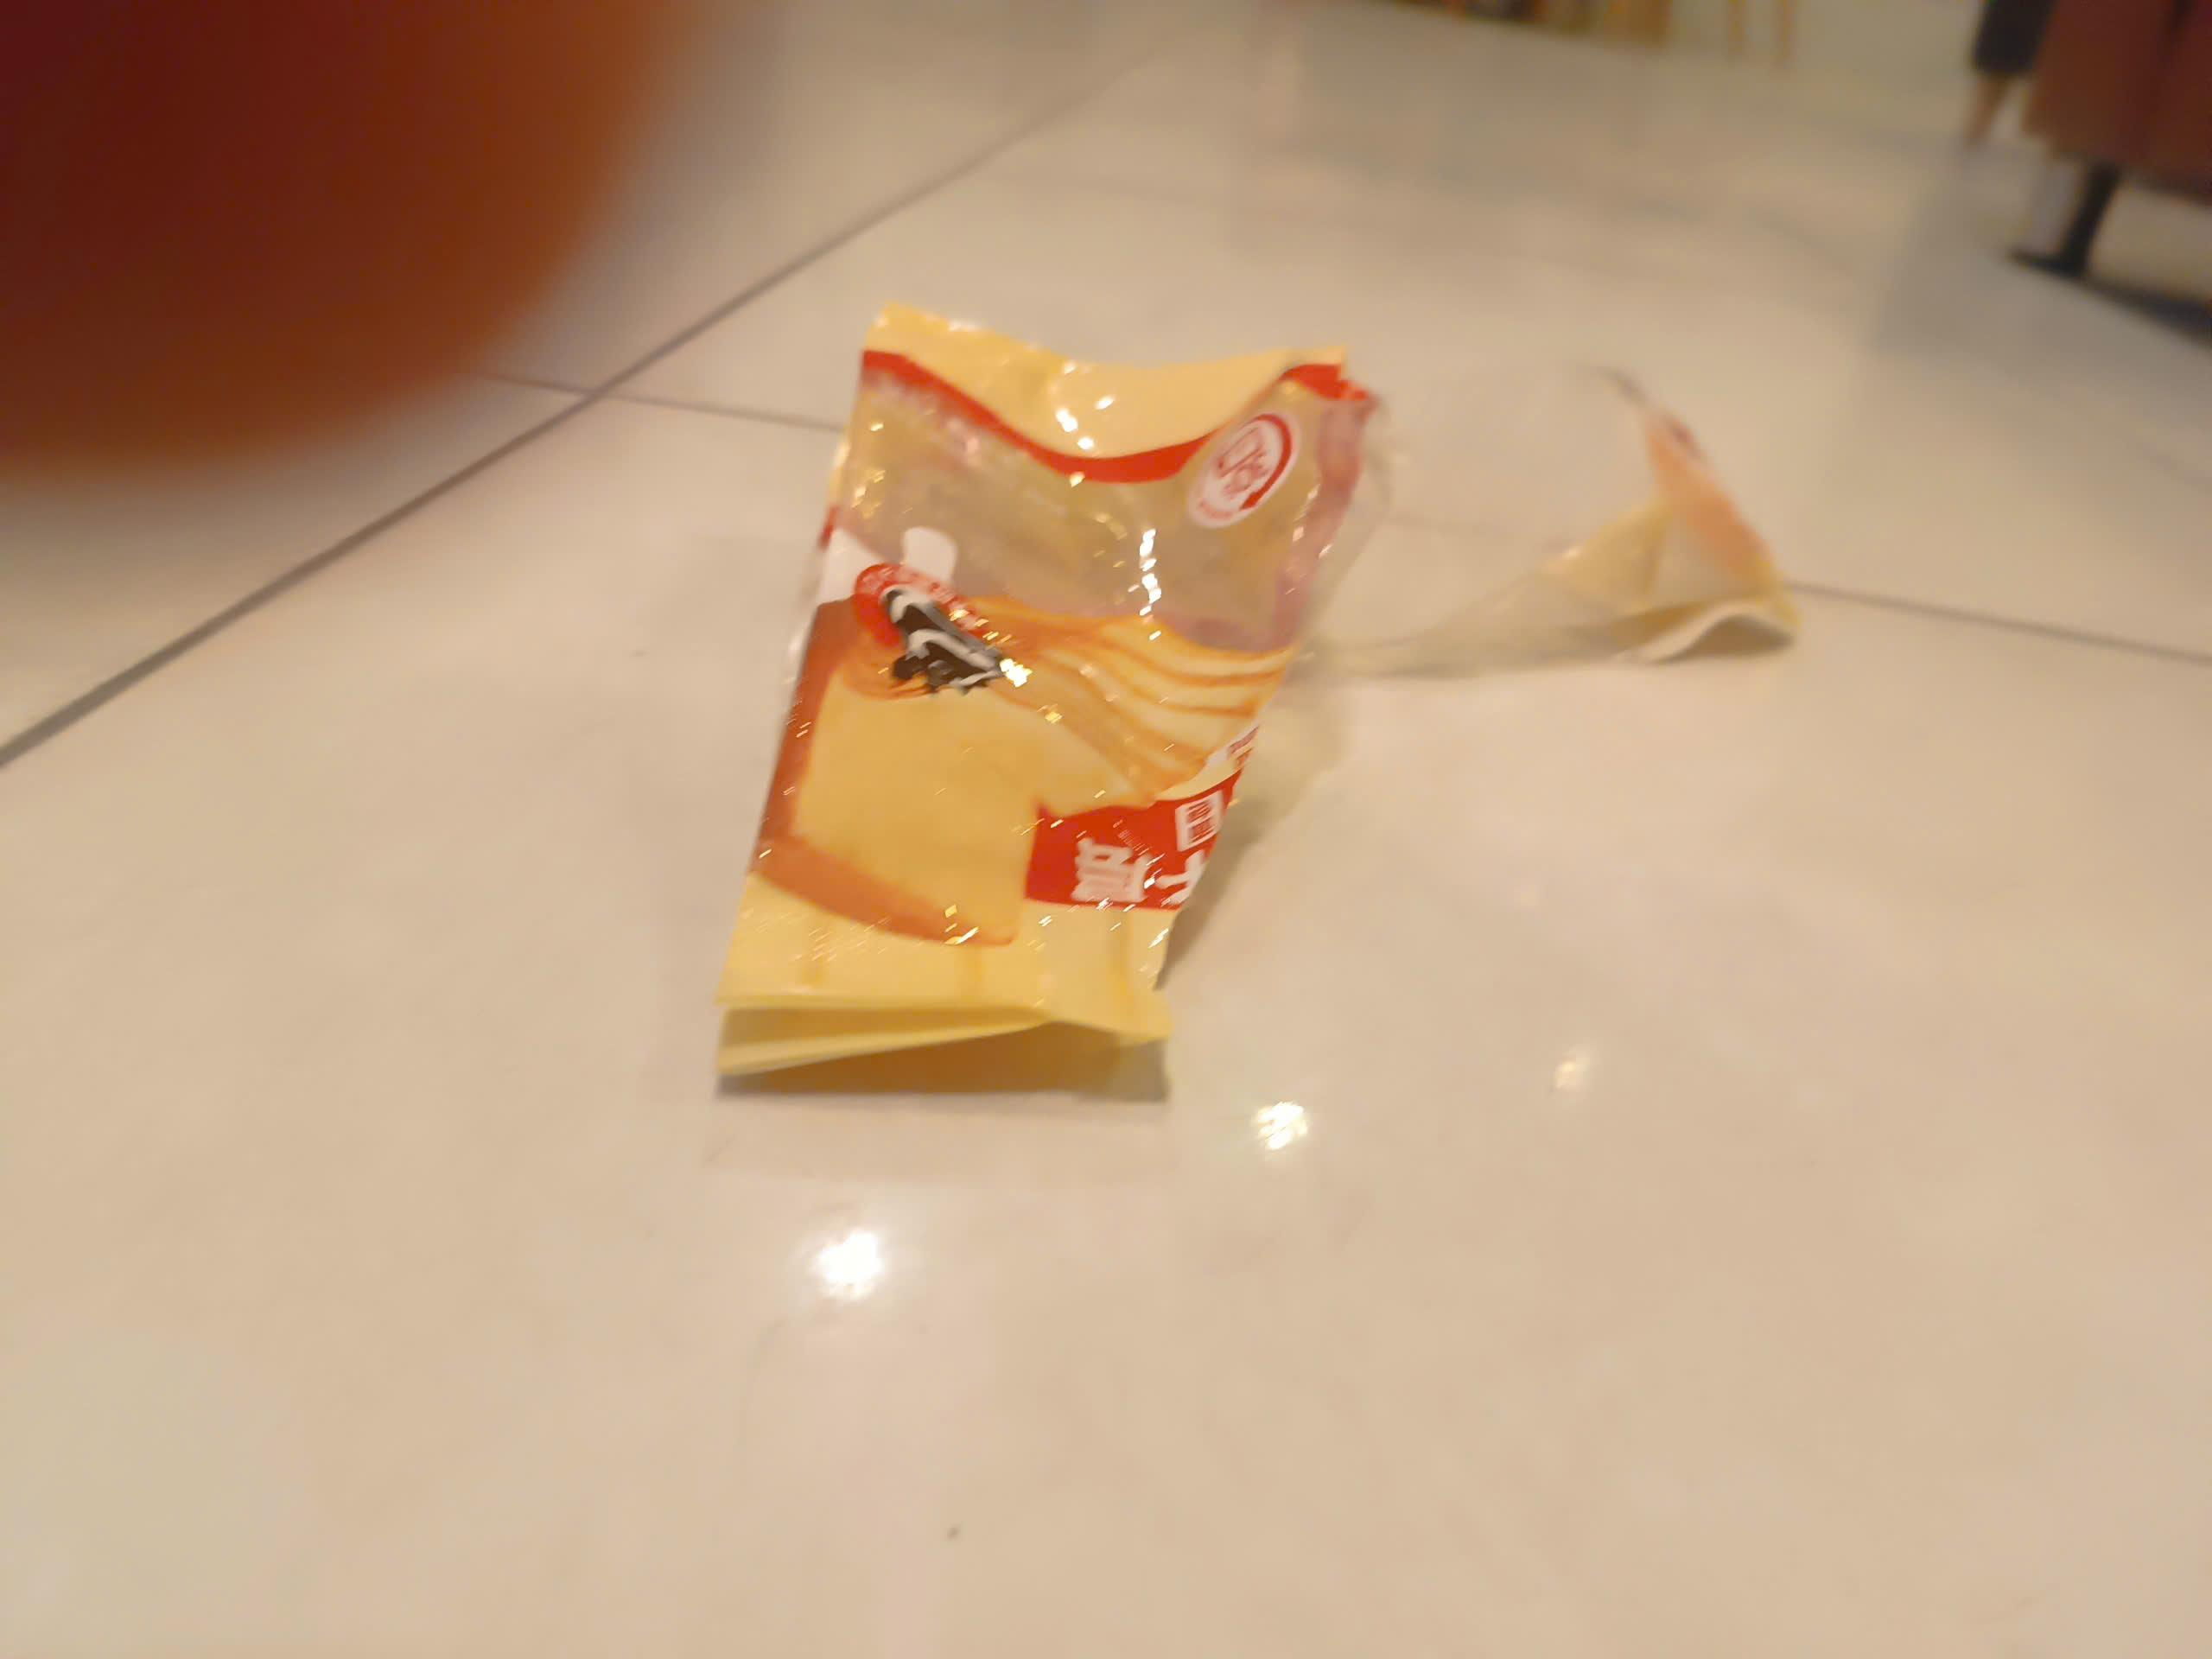Vo co: (714, 308, 1383, 1089)
